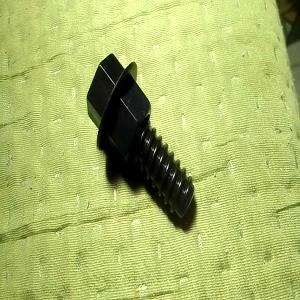parafuso: (86, 51, 196, 220)
